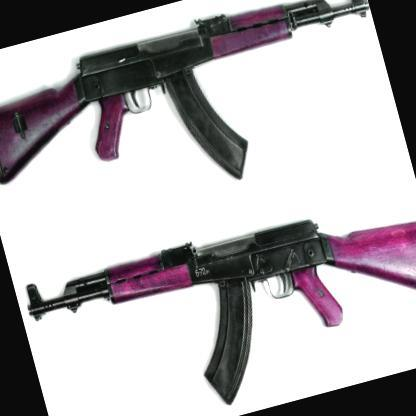rifle: (14, 160, 416, 416), (0, 0, 406, 249)
